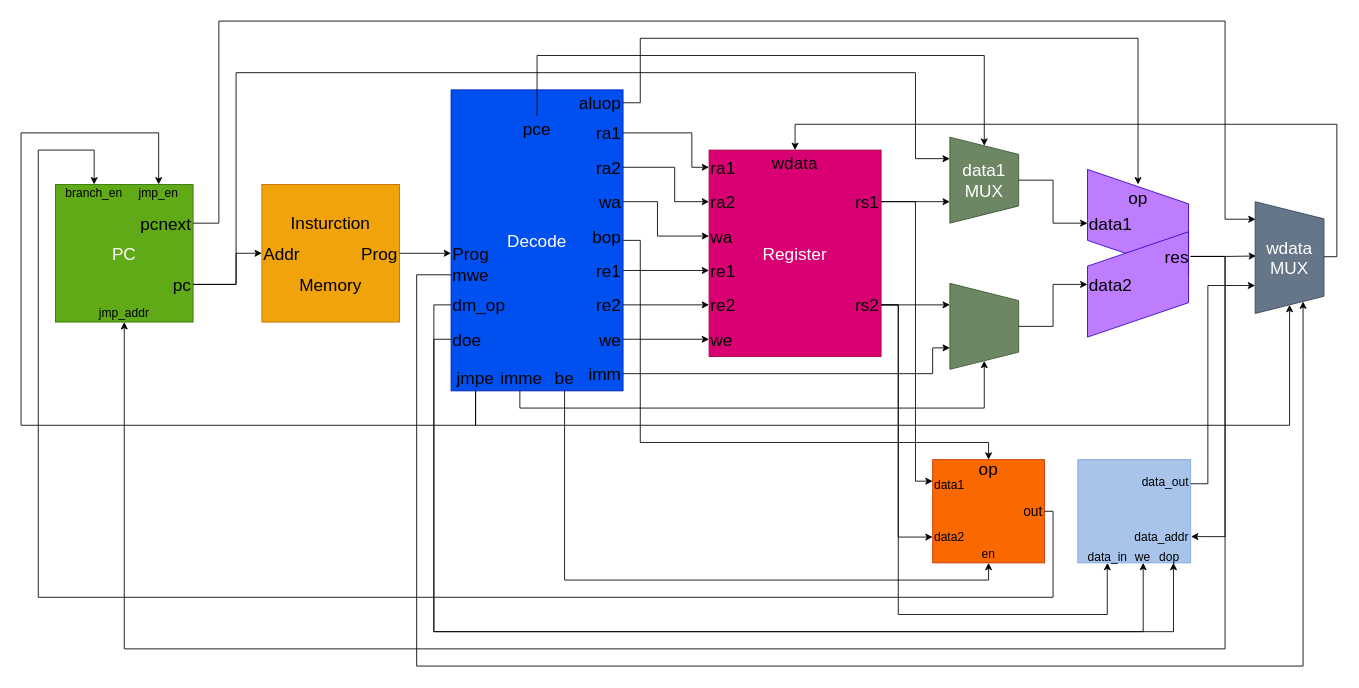
This 1359x688 diagram has some shape labels left out. The shapes that lost their labels are listed below. From the top down, each one's box as (x1, y1, x2, y2) in pixels, then its label:
(949, 283, 1019, 369): data2 MUX
(932, 459, 1044, 563): Branch
(1077, 459, 1191, 563): Data Memroy
